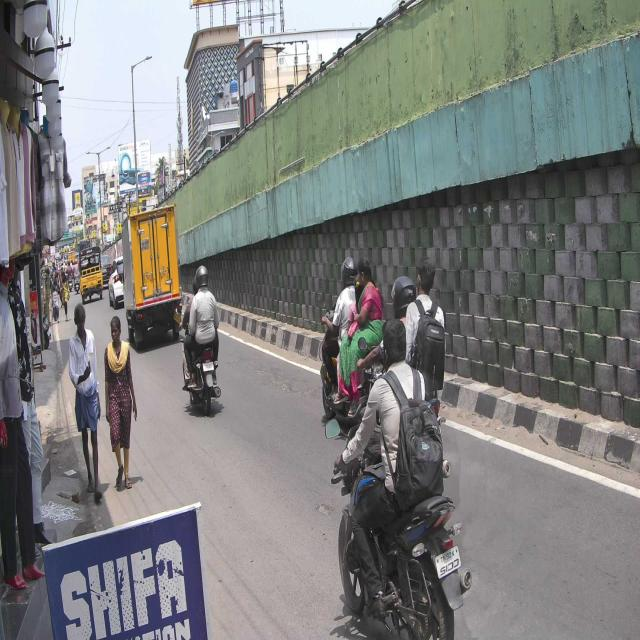single_rider: (340, 321, 475, 640)
